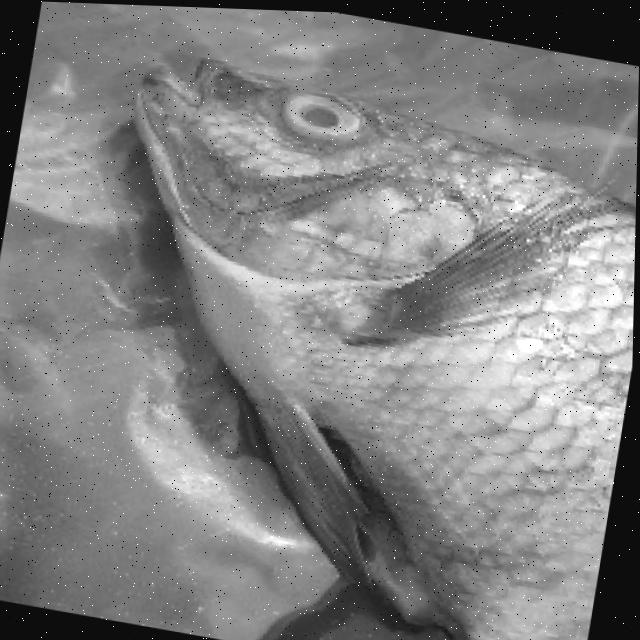Non-Fresh: (281, 160, 637, 568), (259, 66, 384, 161)
